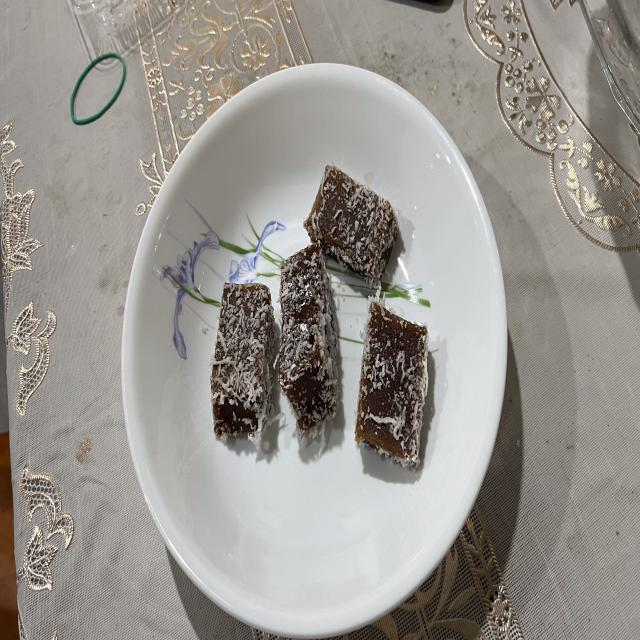kaswi: (355, 302, 428, 467), (304, 164, 399, 289), (279, 244, 338, 433), (211, 282, 274, 438)
